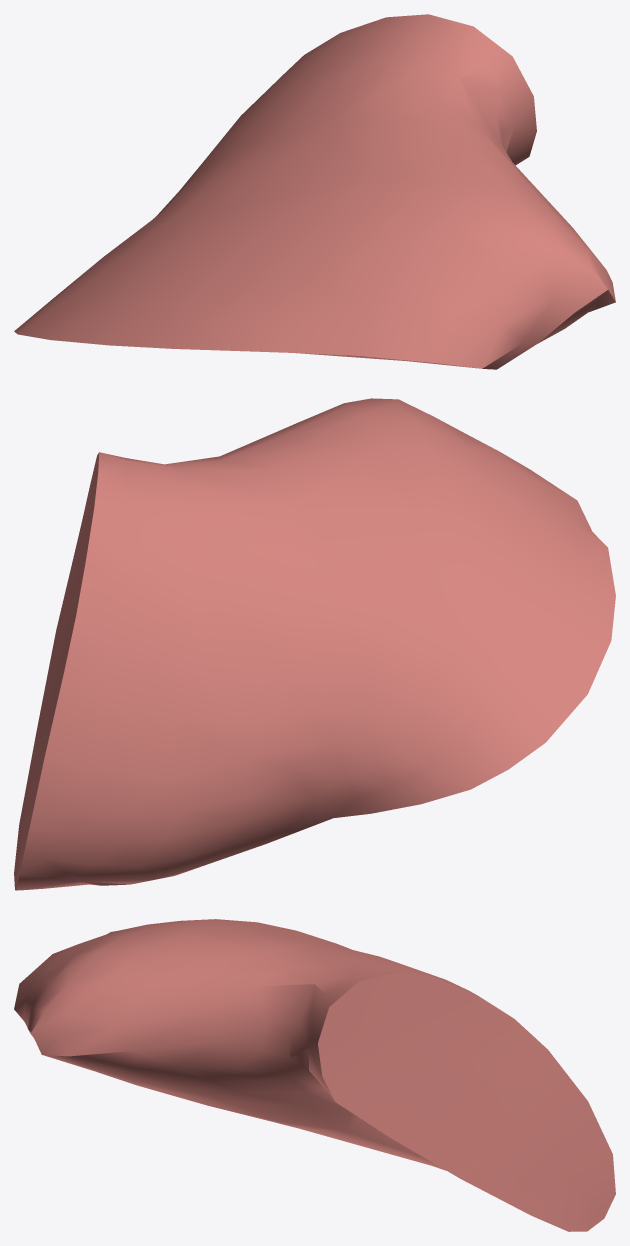
The model's file is fma298579_mm1810.glb.
3 renders of one model, top to bottom at view 1: azimuth 30°, elevation 25°; view 2: azimuth 150°, elevation 25°; view 3: azimuth 270°, elevation 25°, orthographic. The views are drawn at different scales.
Visible parts, largest first — view 1: FMA298579_MM1810; view 2: FMA298579_MM1810; view 3: FMA298579_MM1810.
Part boxes in pixels (left/top/right/bottom): FMA298579_MM1810: left=14, top=14, right=615, bottom=369; FMA298579_MM1810: left=14, top=398, right=615, bottom=890; FMA298579_MM1810: left=14, top=919, right=615, bottom=1231.
Size of the model in its own units: 0.0165 by 0.0105 by 0.0211.
